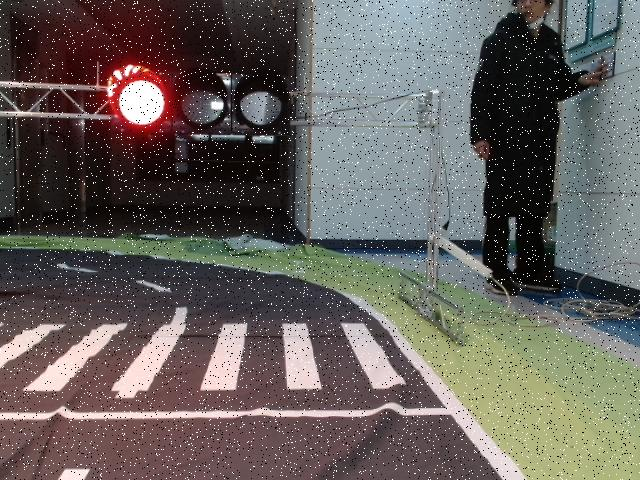crosswalk: (0, 321, 413, 392)
traffic light-red-: (108, 66, 292, 143)
